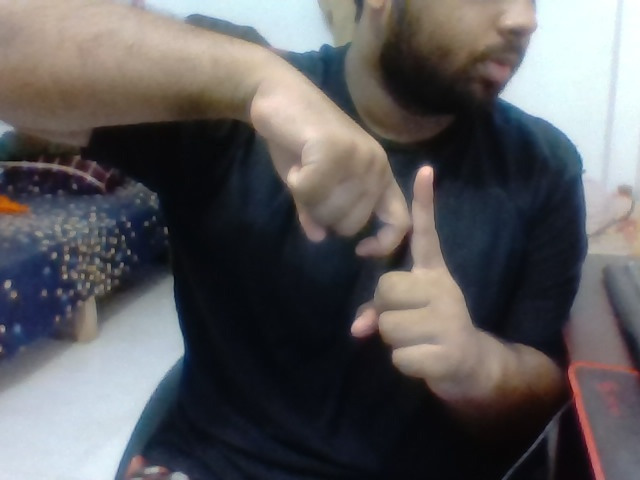K: (255, 37, 489, 394)
